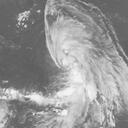cyclone: (45, 22, 97, 105)
